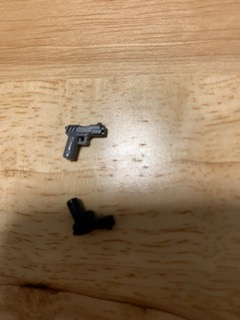pistol: (65, 196, 121, 236), (59, 119, 107, 163)
